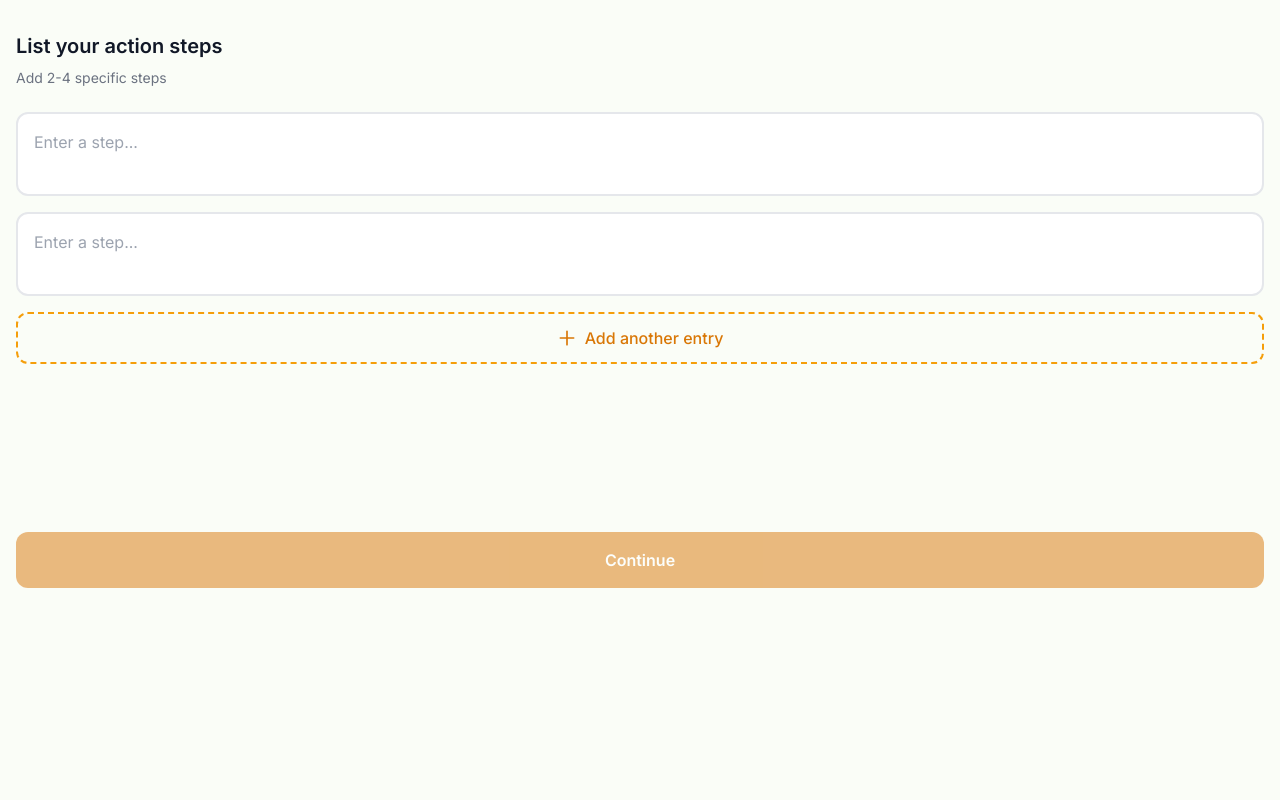
Test: TextInput › multiple inputs mode › removes entry when remove button is clicked
The width and height of the screenshot is (1280, 800).
Note: Add an entry
Click the button "Add another entry". click: (640, 338)
box: [16, 312, 1264, 364]
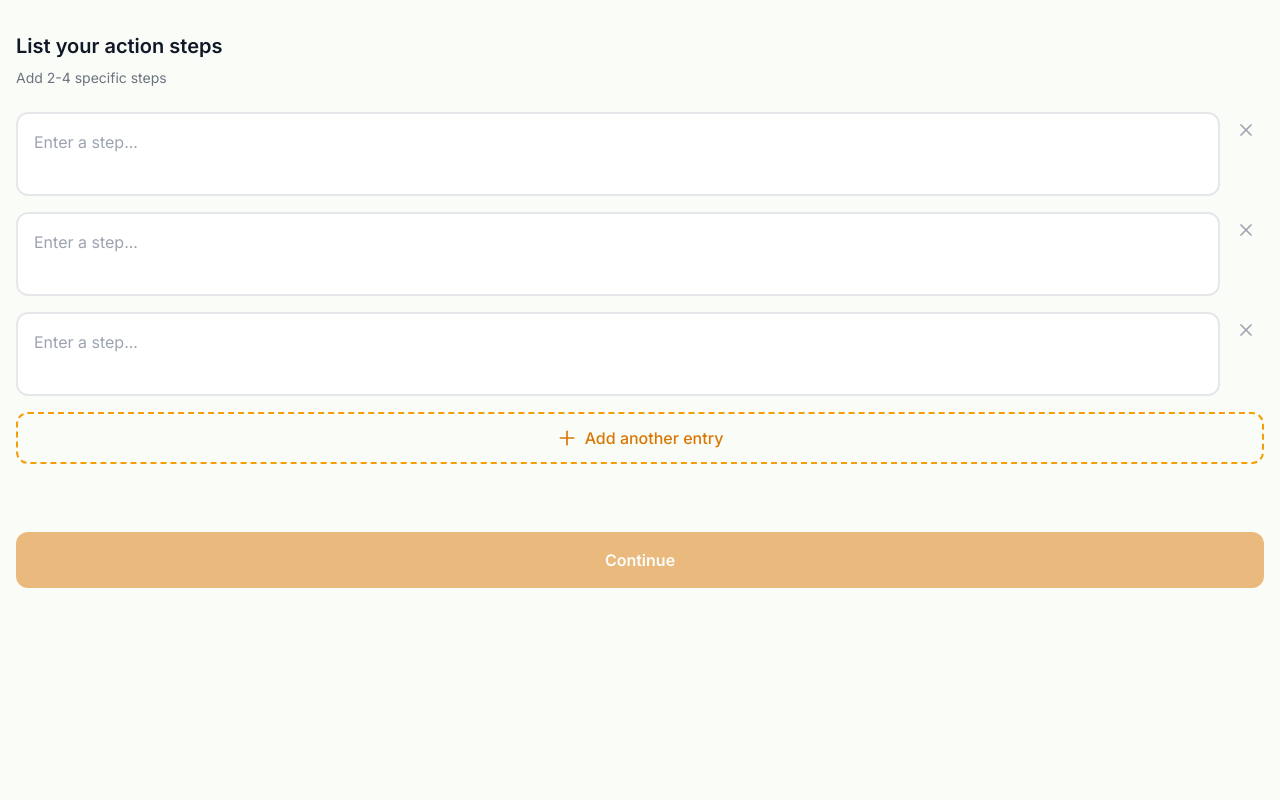
expect the number of text boxes is 3: met, box [16, 112, 1220, 196]; [16, 212, 1220, 296]; [16, 312, 1220, 396]
Note: Click remove on first entry
Click the button named "Remove entry 1". click: (1246, 130)
box: [1228, 112, 1264, 148]
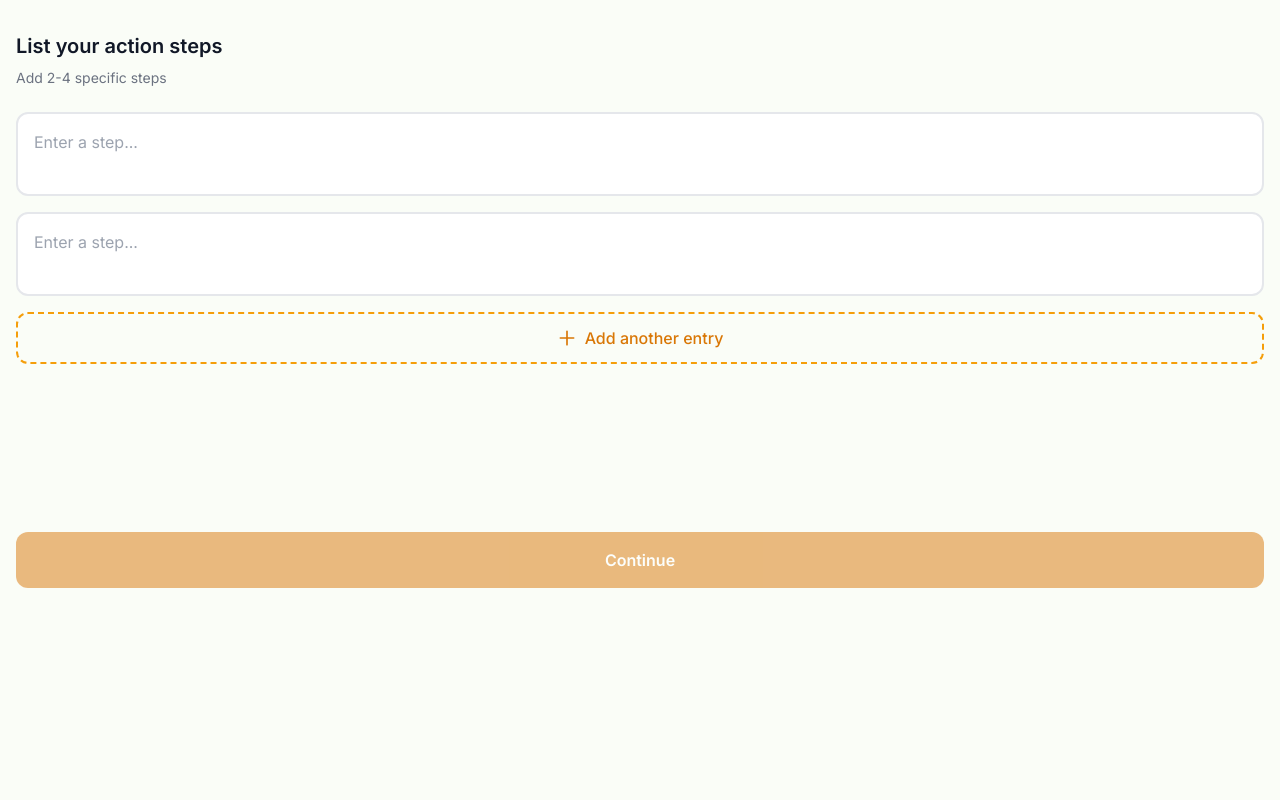
expect the number of text boxes is 2: met, box [16, 112, 1264, 196]; [16, 212, 1264, 296]
